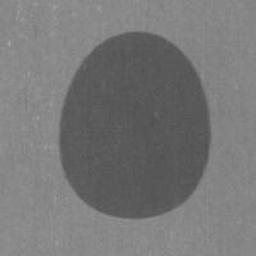Oil spot: (59, 31, 212, 220)
